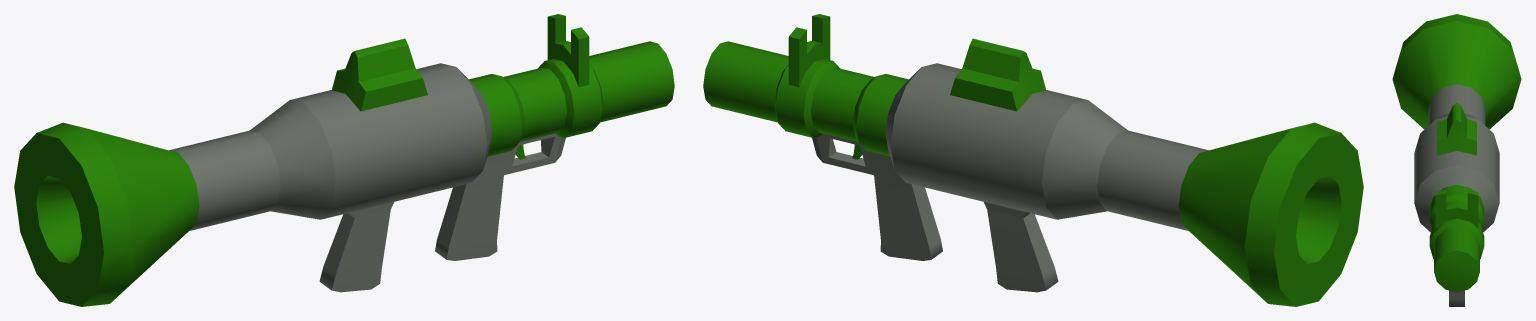
Rendered from RPG.obj.
3 renders of one model, left to right at view 1: azimuth 30°, elevation 25°; view 2: azimuth 150°, elevation 25°; view 3: azimuth 270°, elevation 25°, orthographic. The views are drawn at different scales.
Visible parts, largest first — view 1: Handle, GrayPart; view 2: Handle, GrayPart; view 3: Handle, GrayPart.
Boxes of the visible parts, x1,y1,x2,y2 form: Handle: (14, 14, 674, 306); GrayPart: (169, 63, 565, 292); Handle: (703, 14, 1363, 306); GrayPart: (812, 63, 1208, 292); Handle: (1392, 14, 1521, 292); GrayPart: (1414, 84, 1499, 306).
Bounding box in the file's own units: 2.56 × 0.9601 × 0.6885.
